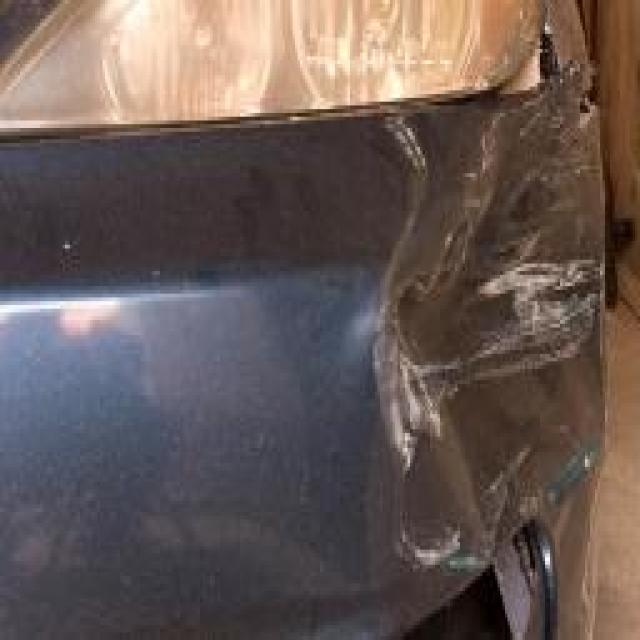Bumper: (355, 98, 610, 621)
